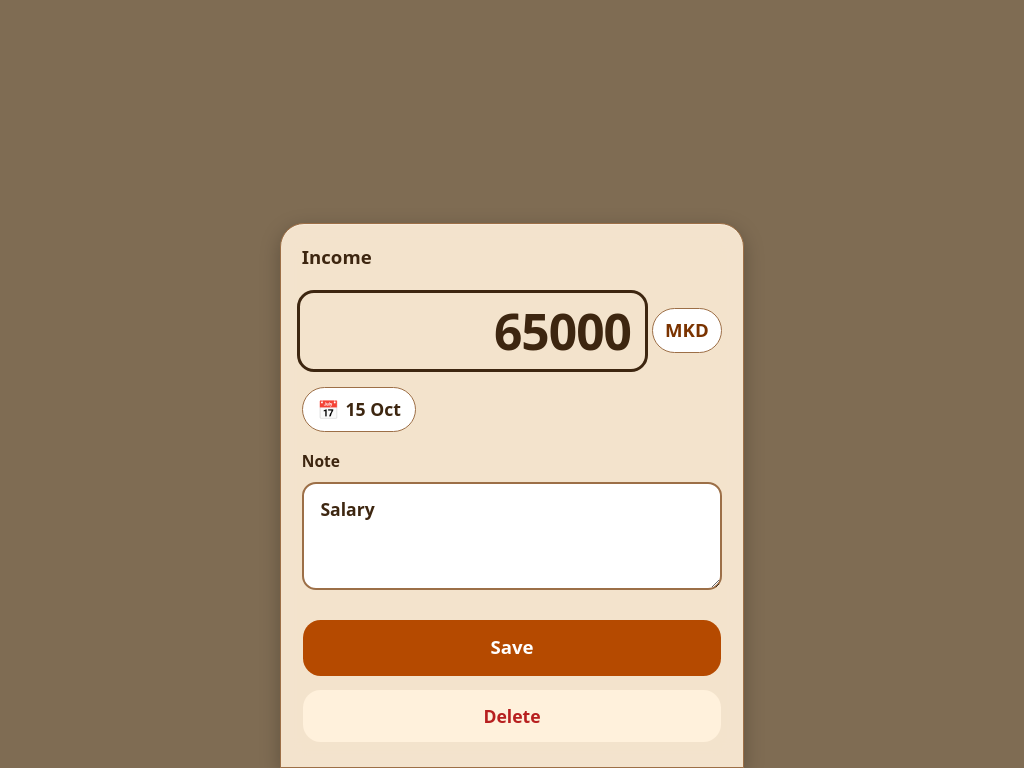
PersonalIncomeSheet, editing › saving › puts the red edge on the amount when the amount was refused on an edit
The image size is (1024, 768).
Click the button "Save" at (512, 648), box [302, 619, 722, 677]
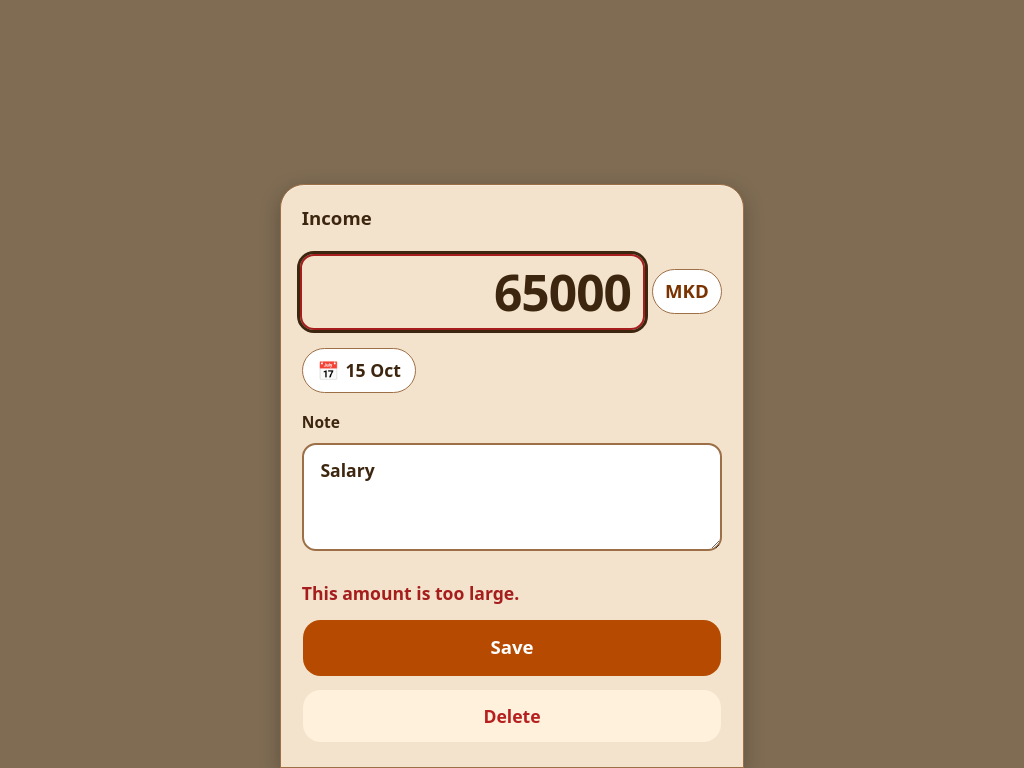
Result: the message reads "This amount is too large." at [302, 581, 519, 605]
